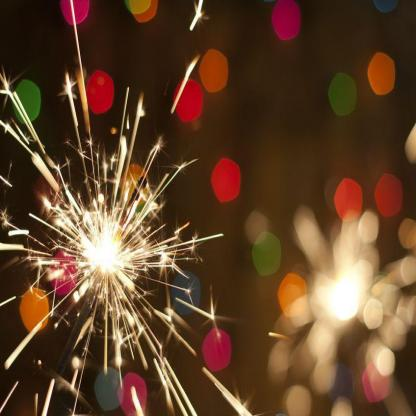other: (44, 174, 164, 316), (300, 231, 378, 341)
